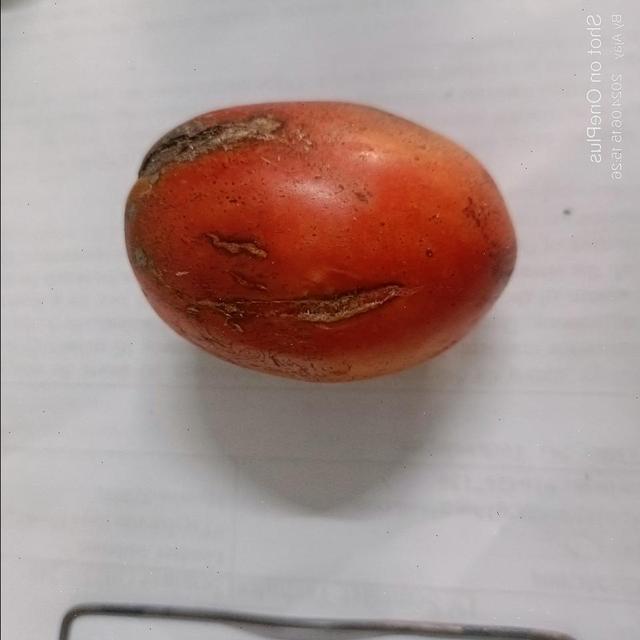Cracking Fruit: (106, 67, 274, 214)
